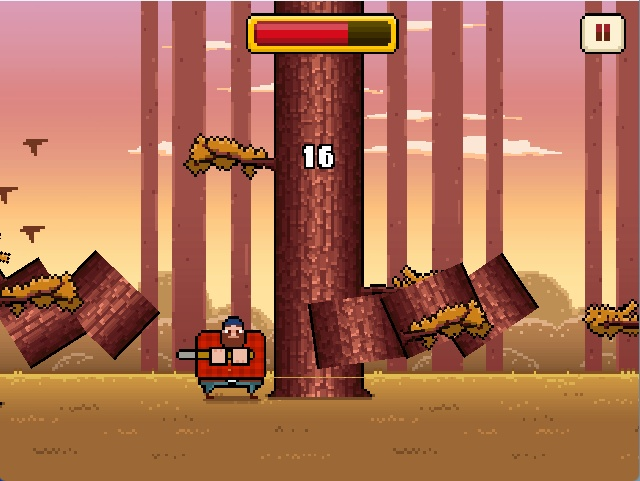left_obs: (180, 128, 282, 186)
timberman: (174, 308, 277, 406)
